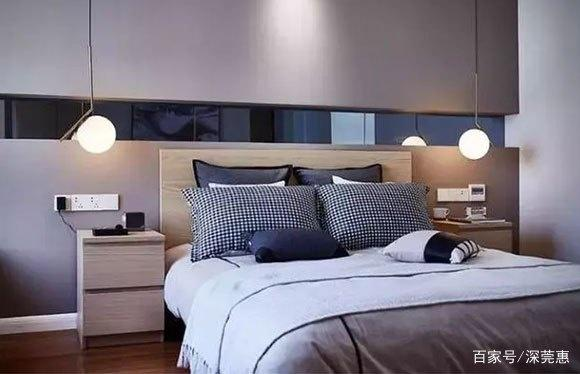床: (165, 249, 574, 372)
枕头: (185, 177, 426, 262), (380, 228, 486, 267)
灯: (73, 112, 118, 157), (454, 126, 490, 165), (396, 136, 428, 150)
